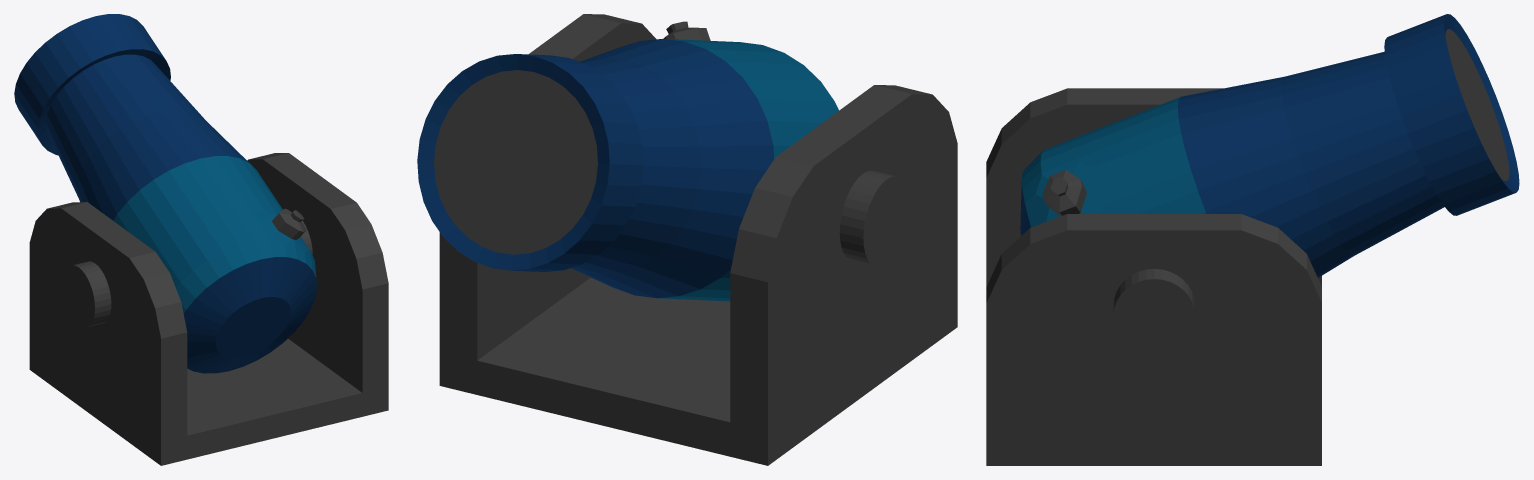
Rendered from Cannon.fbx.
The picture shows the model from 3 angles, left to right: view 1: azimuth 30°, elevation 25°; view 2: azimuth 150°, elevation 25°; view 3: azimuth 270°, elevation 25°; orthographic projection. The views are drawn at different scales.
Visible parts, largest first — view 1: Cylinder.001; view 2: Cylinder.001; view 3: Cylinder.001.
Part boxes in pixels (left/top/right/bottom): Cylinder.001: left=14, top=14, right=388, bottom=465; Cylinder.001: left=417, top=14, right=957, bottom=465; Cylinder.001: left=986, top=14, right=1519, bottom=465.
Size of the model in its own units: 229 by 244 by 318.
